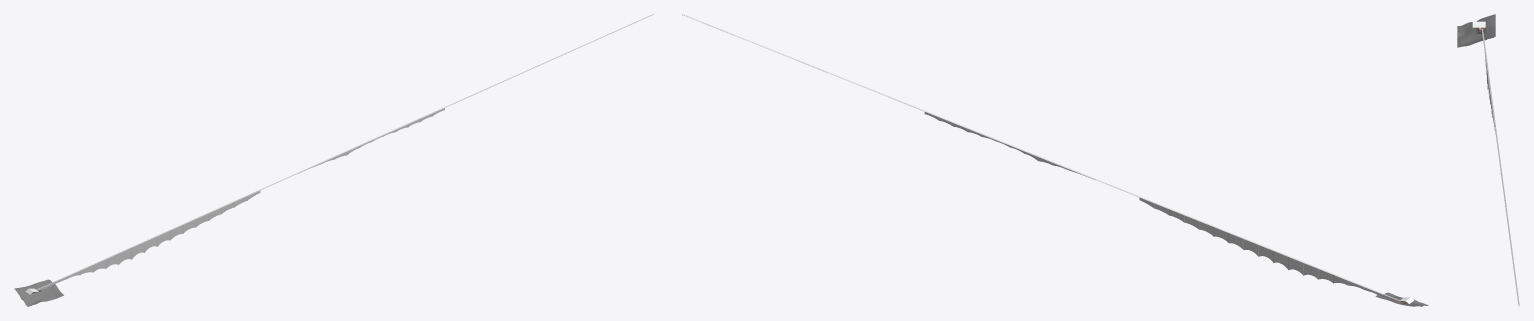
Rendered from em_rail_ejector.glb.
3 renders of one model, left to right at view 1: azimuth 30°, elevation 25°; view 2: azimuth 150°, elevation 25°; view 3: azimuth 270°, elevation 25°, orthographic. The views are drawn at different scales.
Parts seen in each view (by area): view 1: SM_MassDriverTrack__0, SM_Terrain_MassDriver_Material.001_0; view 2: SM_MassDriverTrack__0; view 3: SM_Terrain_MassDriver_Material.001_0, SM_MassDriverTrack__0, SM_Reflective-Tarp_foil_0.
Part boxes in pixels (x1,y1,x2,y2): SM_MassDriverTrack__0: (32,14,653,292); SM_Terrain_MassDriver_Material.001_0: (14,279,63,306); SM_MassDriverTrack__0: (682,14,1407,303); SM_Terrain_MassDriver_Material.001_0: (1457,14,1495,47); SM_MassDriverTrack__0: (1479,27,1519,306); SM_Reflective-Tarp_foil_0: (1472,21,1485,27).
Size of the model in its own units: 1 by 0.1753 by 0.059.
